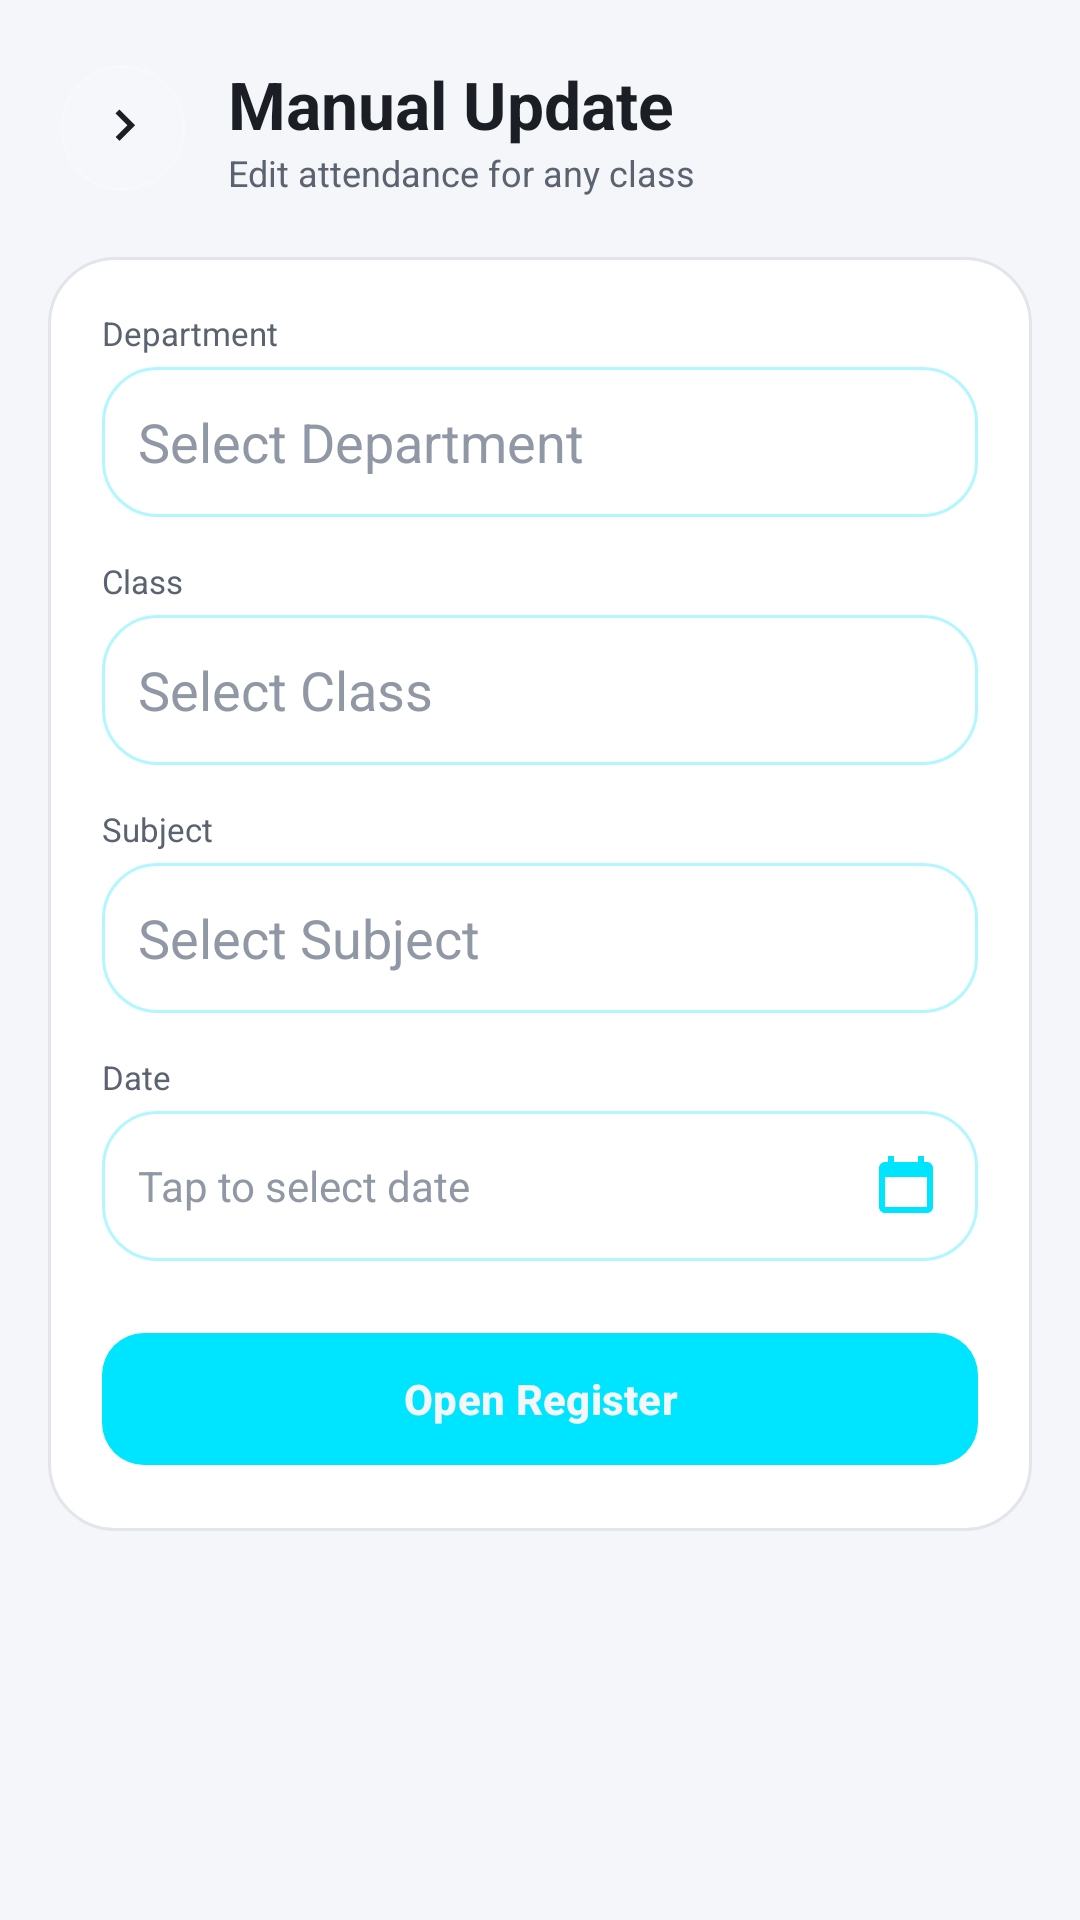

Where to tap for icons on this 1080 × 1920 app screen, as (x,y):
arrow: (125,125)
